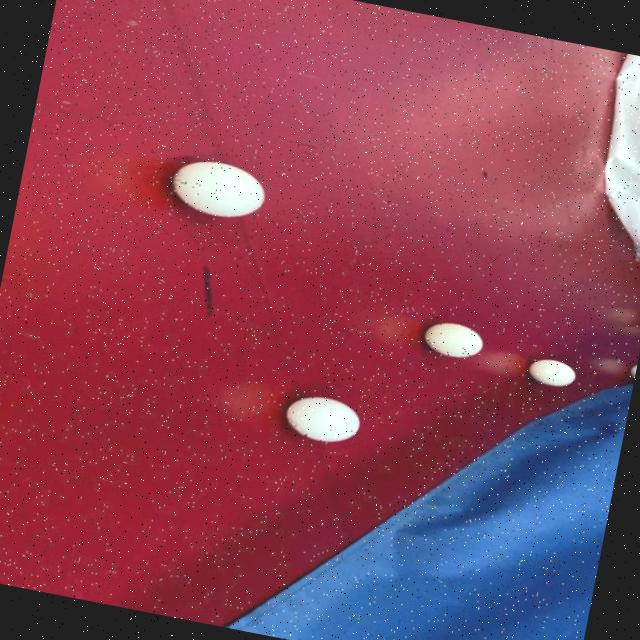ping-pong-ball: (160, 150, 277, 228), (274, 383, 370, 452), (418, 312, 492, 364), (522, 351, 586, 392)
